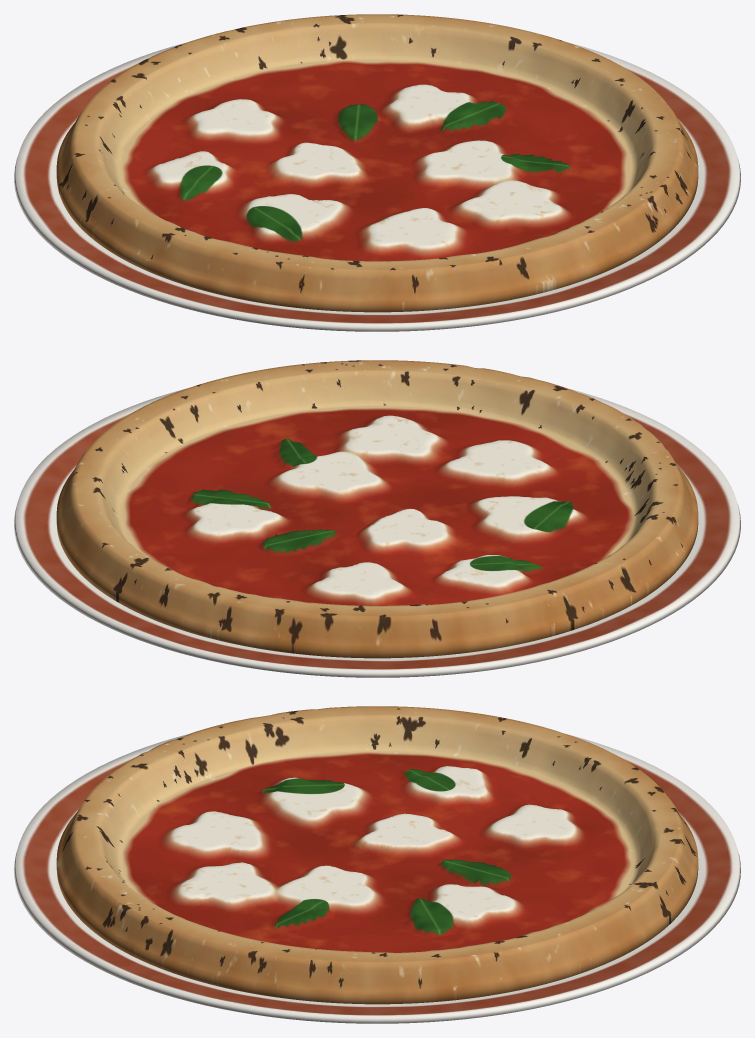
Rendered from pizza-margherita.glb.
3 views of the same model, one above another, from view 1: azimuth 30°, elevation 25°; view 2: azimuth 150°, elevation 25°; view 3: azimuth 270°, elevation 25° (orthographic).
Visible parts, largest first — view 1: Pizza, Prato; view 2: Pizza, Prato; view 3: Pizza, Prato.
Boxes of the visible parts, x1,y1,x2,y2 form: Pizza: (56,14,698,312); Prato: (14,42,740,331); Pizza: (56,360,698,658); Prato: (14,388,740,677); Pizza: (56,706,698,1004); Prato: (14,733,740,1023).
Bounding box in the file's own units: 0.34 × 0.0323 × 0.34.
2 materials, 2 textured.
